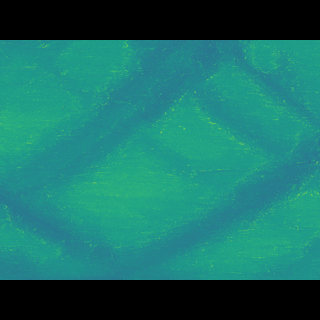Loch: (136, 137, 320, 236), (100, 69, 320, 139), (0, 171, 124, 243)
